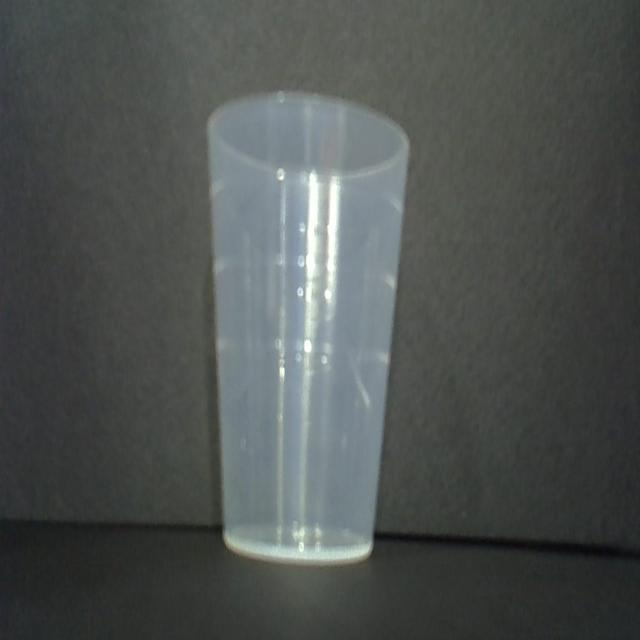cup: (206, 94, 413, 577)
